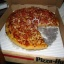pizza: (5, 6, 60, 47)
